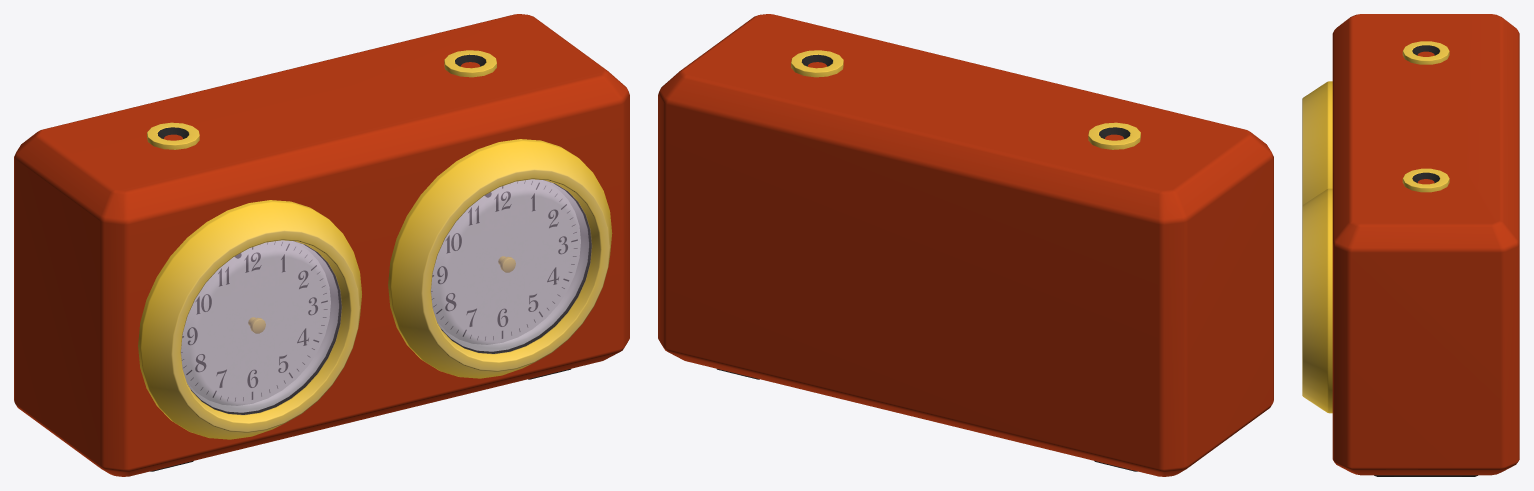
The model's file is Chess_Clock_01.fbx.
3 renders of one model, left to right at view 1: azimuth 30°, elevation 25°; view 2: azimuth 150°, elevation 25°; view 3: azimuth 270°, elevation 25°, orthographic. The views are drawn at different scales.
Parts seen in each view (by area): view 1: Chess_Clock_01; view 2: Chess_Clock_01; view 3: Chess_Clock_01.
Part boxes in pixels (x1,y1,x2,y2): Chess_Clock_01: [14, 14, 629, 476]; Chess_Clock_01: [658, 14, 1273, 476]; Chess_Clock_01: [1302, 14, 1519, 476].
Bounding box in the file's own units: 16.11 × 8.89 × 6.52.
